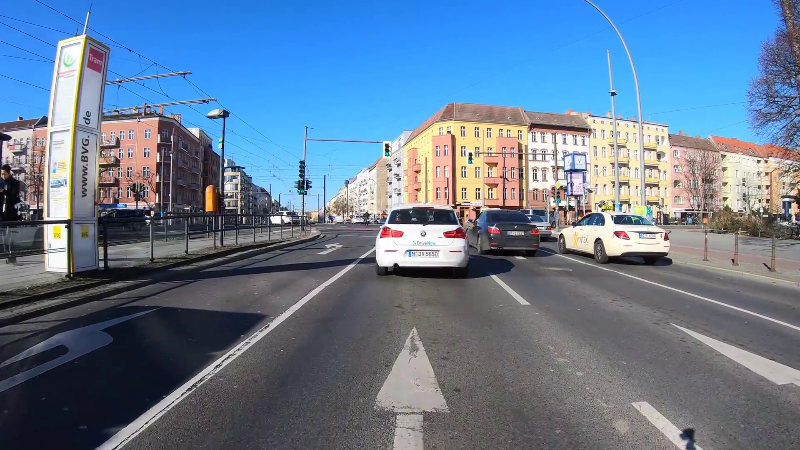Plate: (406, 249, 441, 257), (637, 231, 657, 239), (506, 230, 525, 235)
